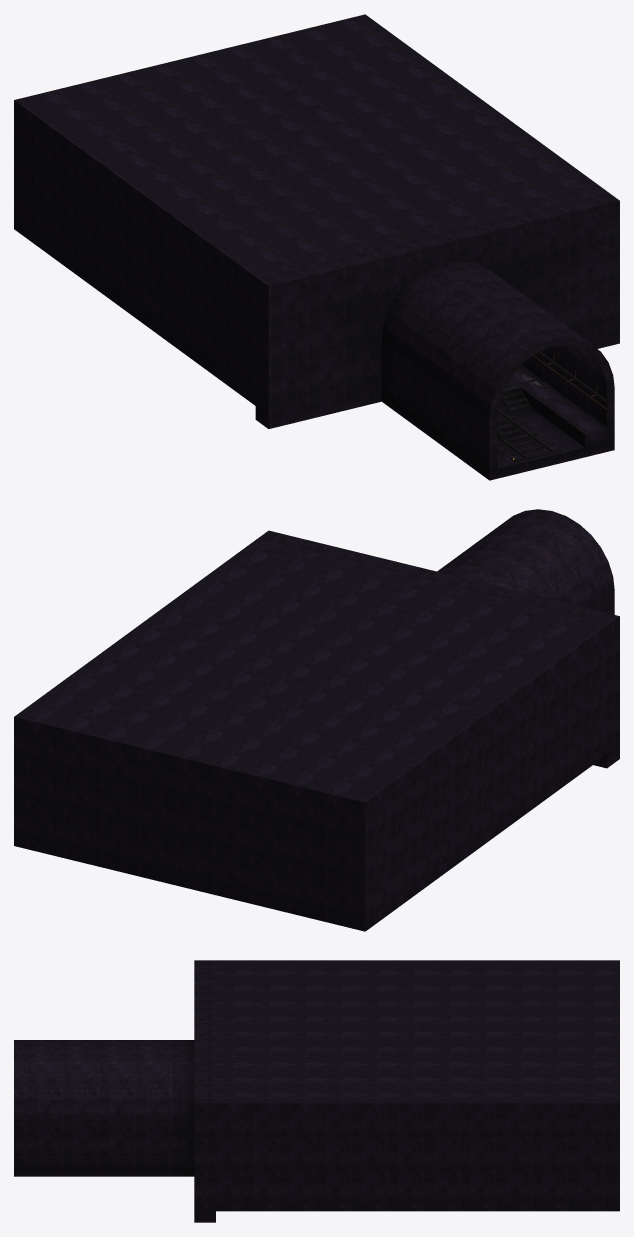
File: tunnel_vault.glb
The picture shows the model from 3 angles, top to bottom: view 1: azimuth 30°, elevation 25°; view 2: azimuth 150°, elevation 25°; view 3: azimuth 270°, elevation 25°; orthographic projection. The views are drawn at different scales.
Parts seen in each view (by area): view 1: body; view 2: body; view 3: body.
Part boxes in pixels (bbox=[...]): body: bbox=[14, 14, 619, 480]; body: bbox=[14, 509, 619, 931]; body: bbox=[14, 960, 619, 1222].
Size of what is drawn, in the model's own units: 18.8 by 7.3 by 33.6.
33 materials, 27 textured.
